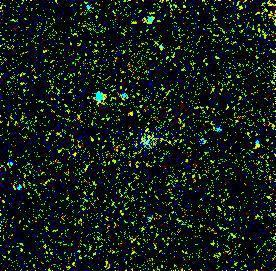star: (112, 102, 142, 132)
